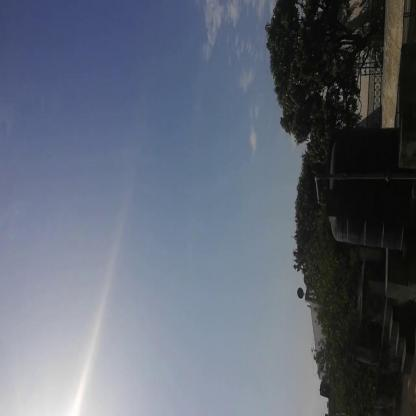other: (22, 367, 90, 415)
